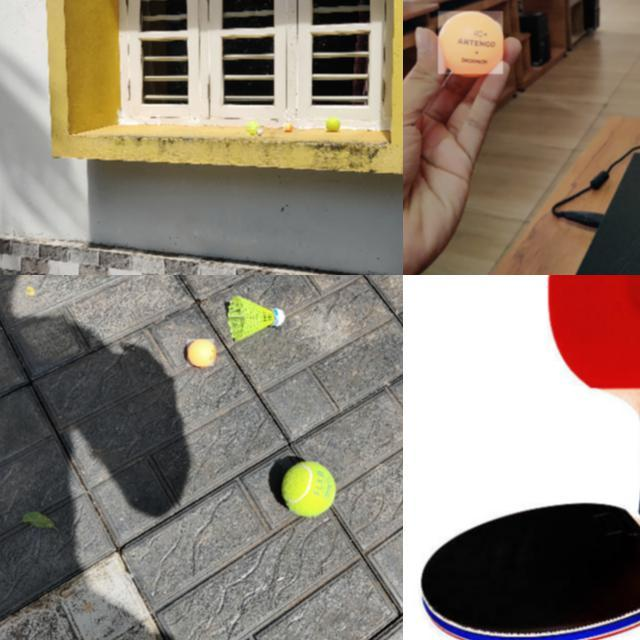ping-pong-ball: (438, 10, 504, 76), (187, 339, 215, 367), (283, 123, 291, 131)
